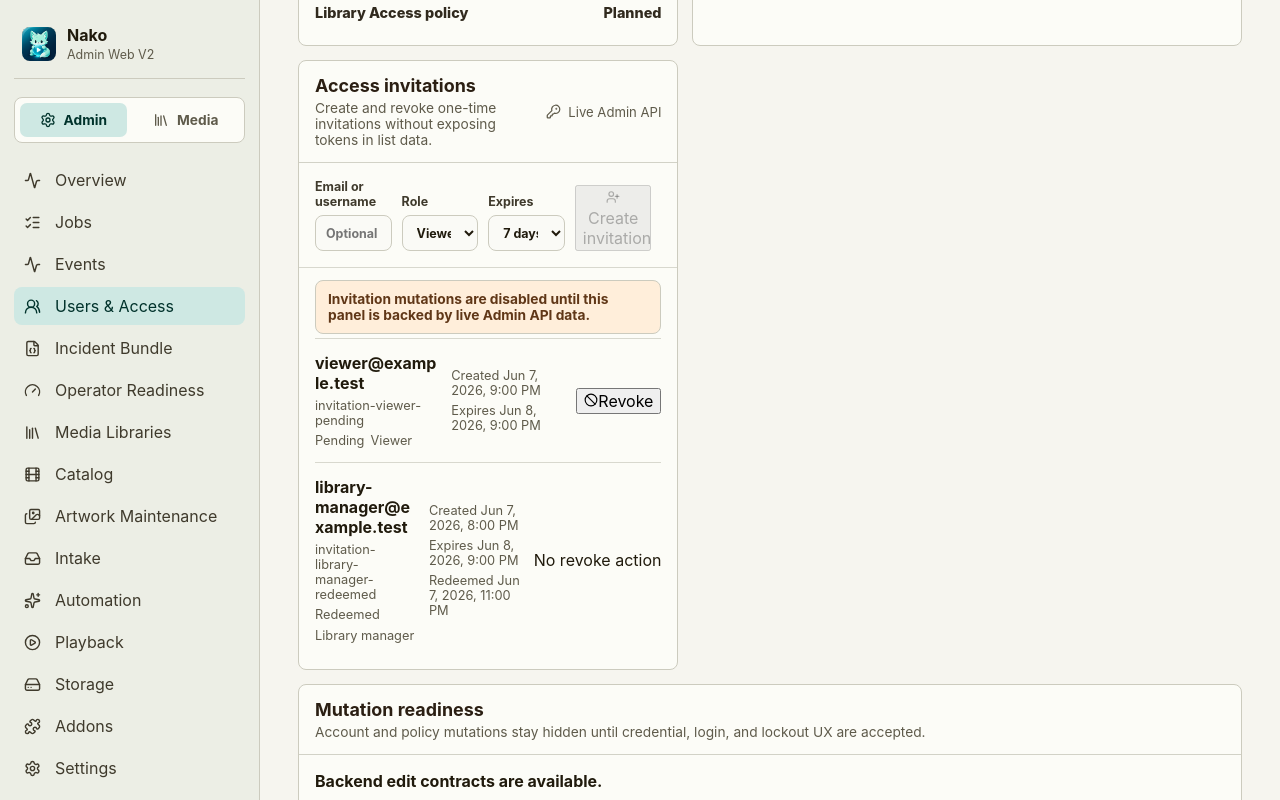
Test: Admin Web V2 route shell › revokes Access invitations only after explicit confirmation
(page scrolled)
Click the button with aria-label "Prepare invitation revoke invitation-viewer-pending": (619, 401) [576,388,661,414]
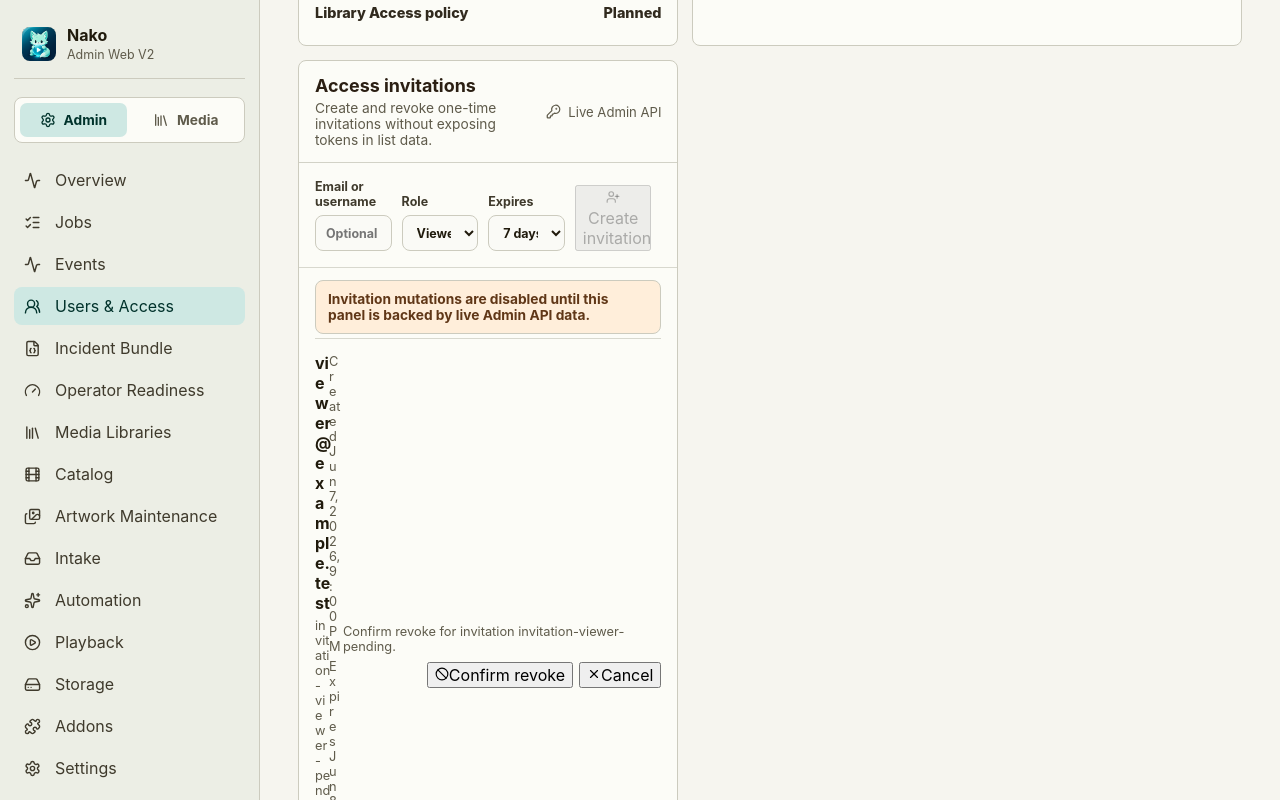
Expected: the text "Confirm revoke for invitation invitation-viewer-pending." is shown, [343,624,662,654]
Click the button with aria-label "Confirm invitation revoke invitation-viewer-pending": (500, 675) [427,662,573,688]
(page scrolled)
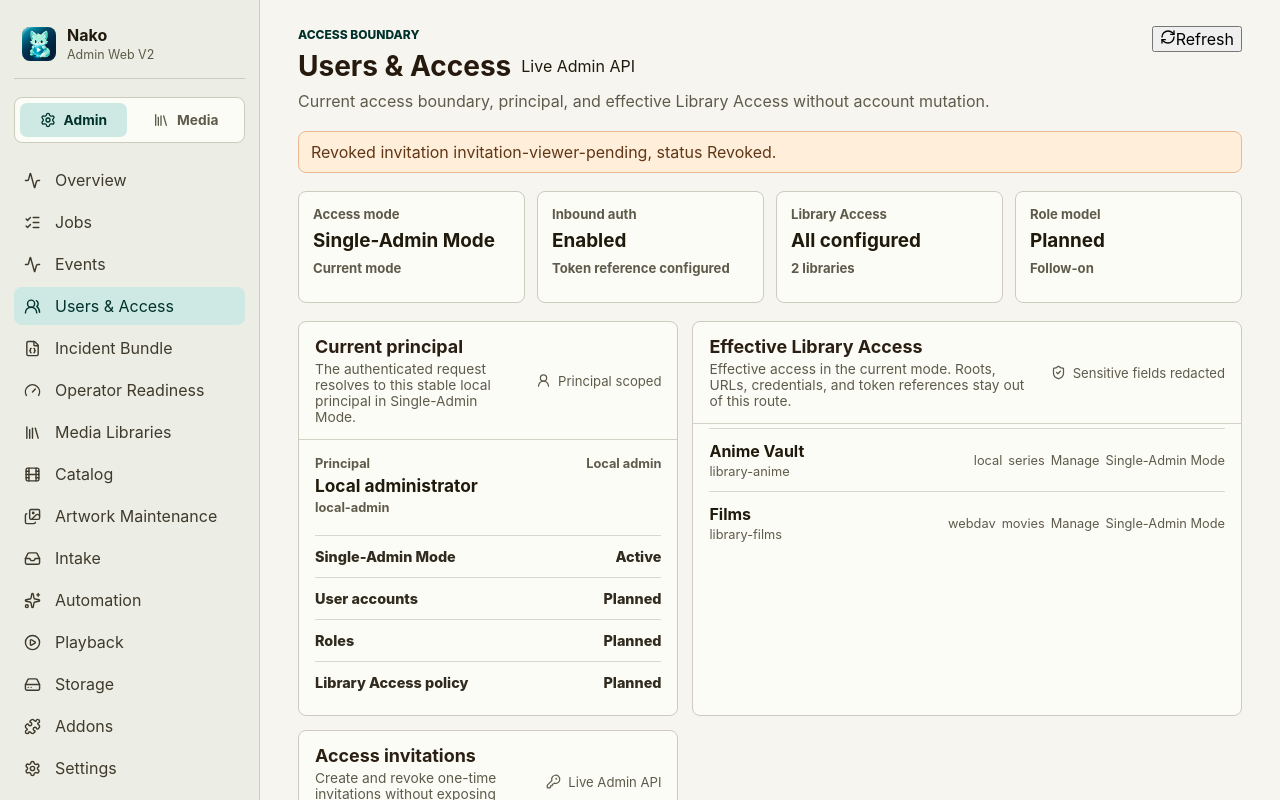
Expected: the text "Revoked invitation invitation-viewer-pending, status Revoked." is shown, [298,131,1242,173]
